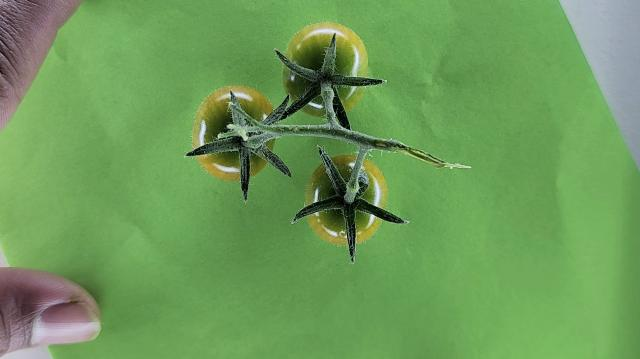Fully Grown: (281, 22, 370, 118), (191, 85, 278, 181), (303, 155, 388, 246)
